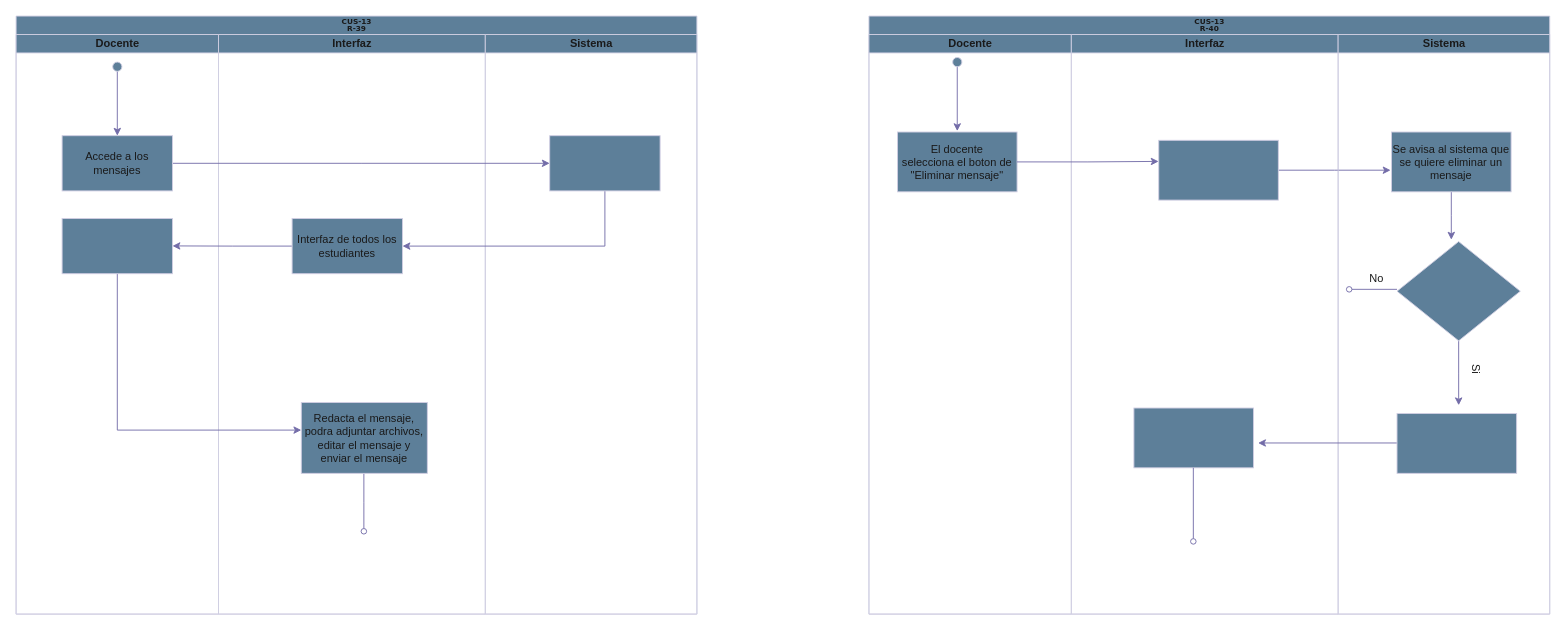
Some shapes in this 1566 by 630 pixel diagram are drawn without their labels. The box of each missing label's shape, as (x1, y1, x2, y2) in pixels:
Busca a los estudiantes: (549, 135, 660, 191)
Estas seguro de eliminar el mensaje?: (1396, 241, 1520, 341)
Mostrar confirmacion de la accion: (1158, 139, 1278, 200)
Notificar: Se elimino el mensaje correctamente: (1133, 407, 1254, 468)
Se elimina el mensaje: (1396, 413, 1517, 473)
Selecciona al estudiante: (61, 218, 172, 274)
